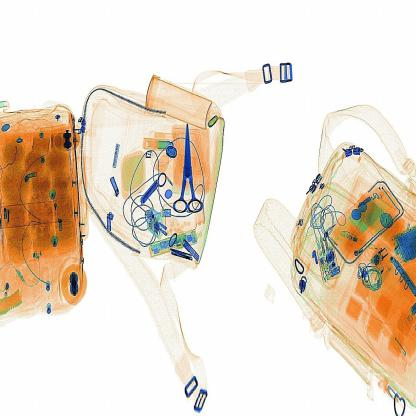gun: (170, 121, 208, 217)
